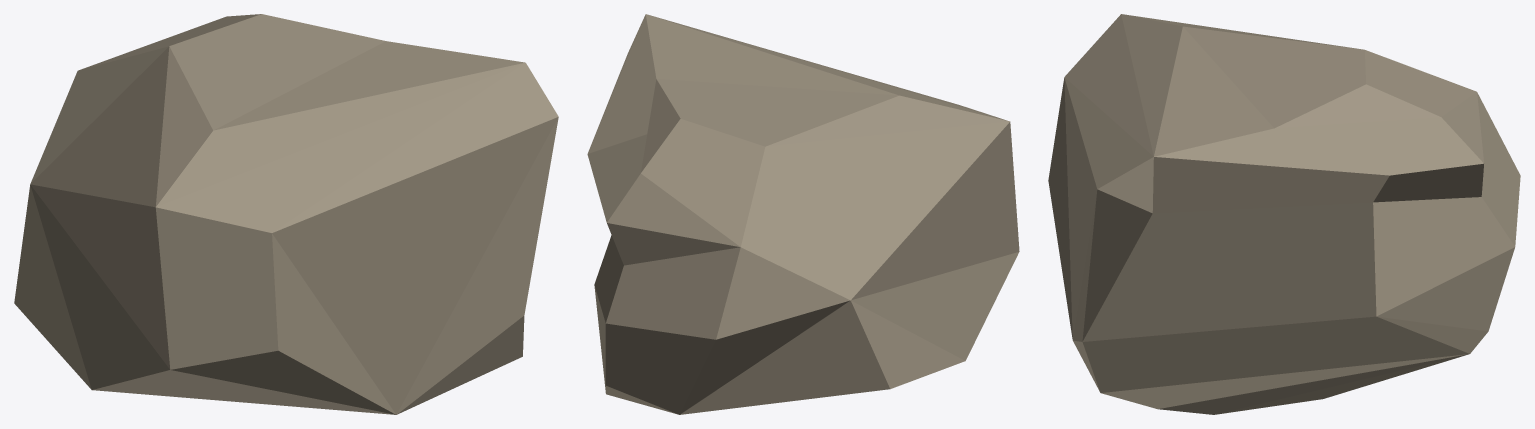
Rendered from SM_Rock_02.glb.
3 renders of one model, left to right at view 1: azimuth 30°, elevation 25°; view 2: azimuth 150°, elevation 25°; view 3: azimuth 270°, elevation 25°, orthographic. The views are drawn at different scales.
Parts seen in each view (by area): view 1: SM_Rock_02; view 2: SM_Rock_02; view 3: SM_Rock_02.
Boxes of the visible parts, box(x1,y1,x2,y2) form: SM_Rock_02: box(14, 14, 558, 414); SM_Rock_02: box(587, 14, 1019, 414); SM_Rock_02: box(1048, 14, 1520, 414).
Size of the model in its own units: 0.3874 by 0.288 by 0.4046.
Materials: 1 (1 with a texture image).
